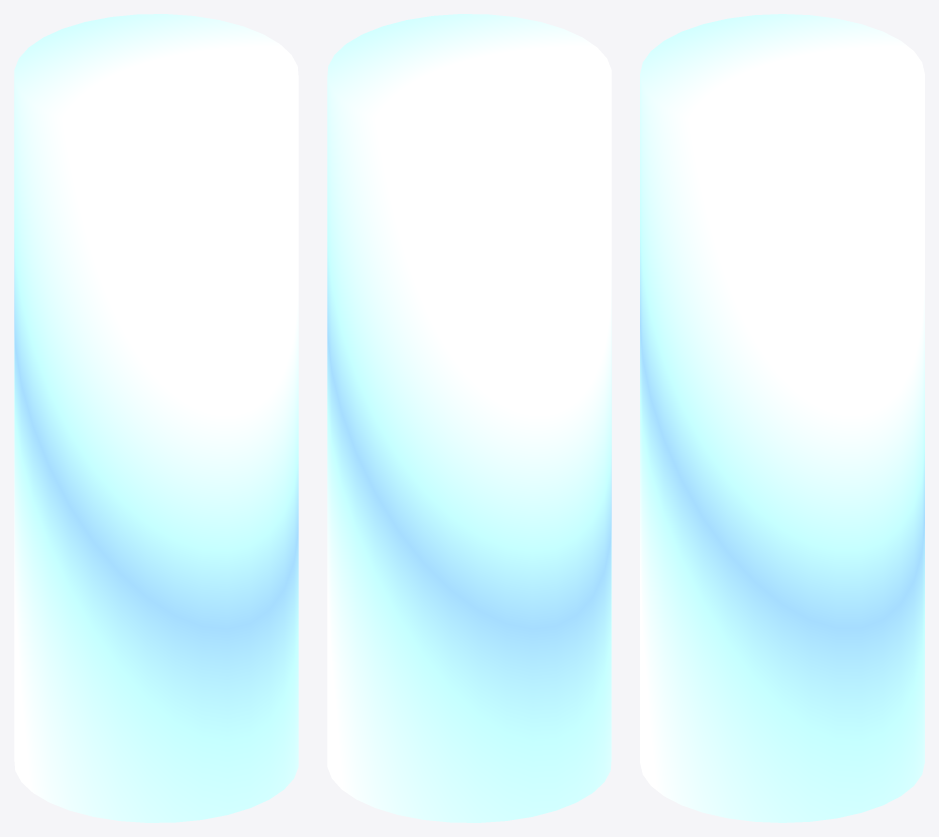
Rendered from GT3_Air_Jack_Cylinder_FL.glb.
The picture shows the model from 3 angles, left to right: view 1: azimuth 30°, elevation 25°; view 2: azimuth 150°, elevation 25°; view 3: azimuth 270°, elevation 25°; orthographic projection.
Parts seen in each view (by area): view 1: GT3_Air_Jack_Cylinder_FL; view 2: GT3_Air_Jack_Cylinder_FL; view 3: GT3_Air_Jack_Cylinder_FL.
Boxes of the visible parts, bbox=[...] form: GT3_Air_Jack_Cylinder_FL: bbox=[14, 14, 298, 822]; GT3_Air_Jack_Cylinder_FL: bbox=[327, 14, 611, 822]; GT3_Air_Jack_Cylinder_FL: bbox=[640, 14, 924, 822].
Size of the model in its own units: 0.06 by 0.16 by 0.06.
